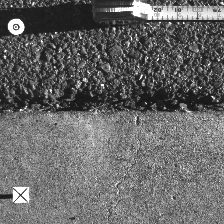circle: (7, 19, 25, 35)
crack: (1, 97, 223, 112)
square: (12, 187, 29, 203)
